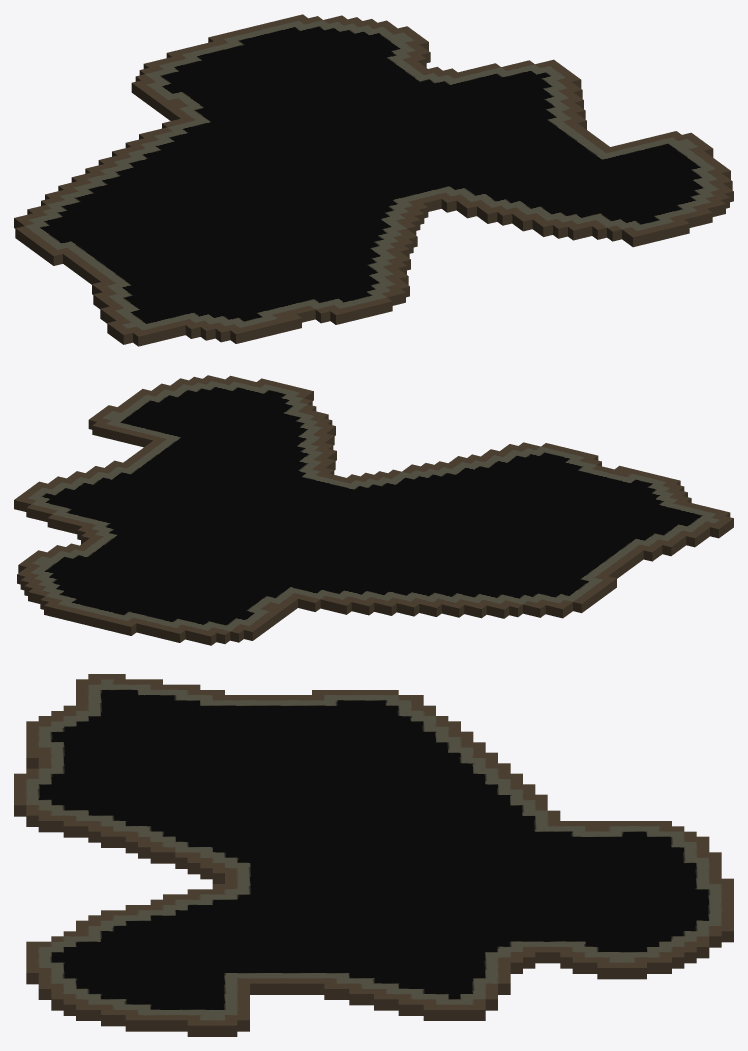
File: ground_hole_3.glb
3 views of the same model, one above another, from view 1: azimuth 30°, elevation 25°; view 2: azimuth 150°, elevation 25°; view 3: azimuth 270°, elevation 25° (orthographic). The views are drawn at different scales.
Visible parts, largest first — view 1: ground_hole_3; view 2: ground_hole_3; view 3: ground_hole_3.
Boxes of the visible parts, <box> form: ground_hole_3: <box>14,14,733,346</box>; ground_hole_3: <box>14,375,733,645</box>; ground_hole_3: <box>14,674,733,1036</box>.
Size of the model in its own units: 6.7 by 0.1 by 5.8.
Materials: 1 (1 with a texture image).
